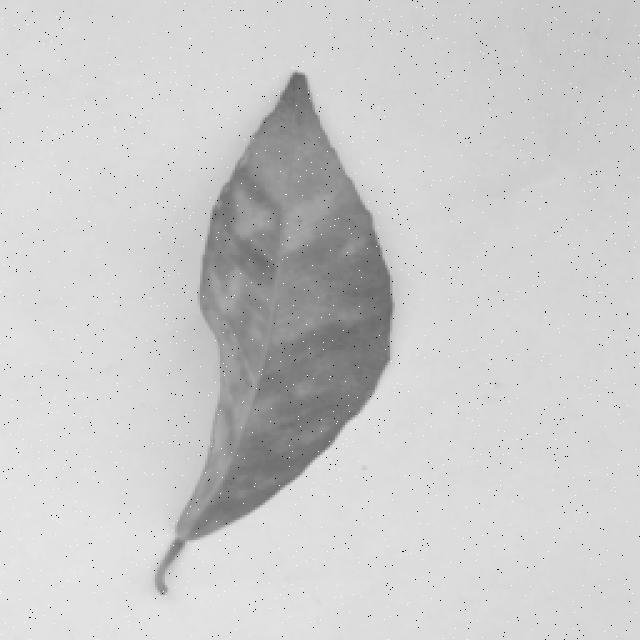greening: (140, 67, 405, 574)
